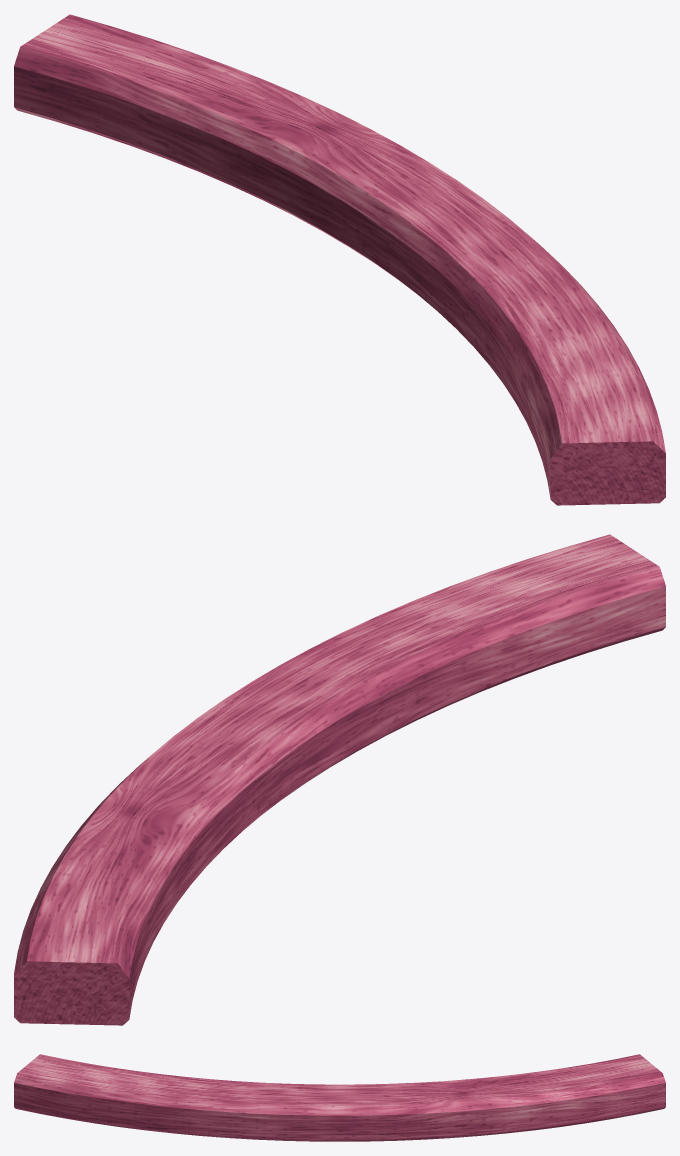
Rendered from painted_arcs.glb.
3 views of the same model, one above another, from view 1: azimuth 30°, elevation 25°; view 2: azimuth 150°, elevation 25°; view 3: azimuth 270°, elevation 25° (orthographic). The views are drawn at different scales.
Parts seen in each view (by area): view 1: Spring; view 2: Spring; view 3: Spring.
Part boxes in pixels (bbox=[...]): Spring: bbox=[14, 14, 665, 505]; Spring: bbox=[14, 534, 665, 1025]; Spring: bbox=[14, 1054, 665, 1141].
Size of the model in its own units: 0.5353 by 0.15 by 2.58.
3 materials, 3 textured.
